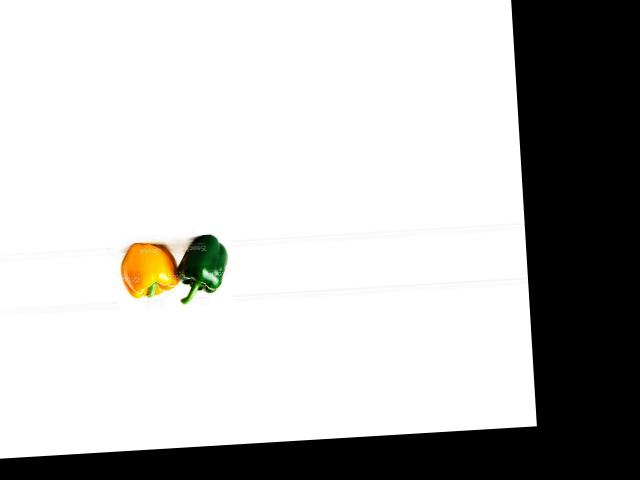bell_pepper: (175, 225, 234, 298)
